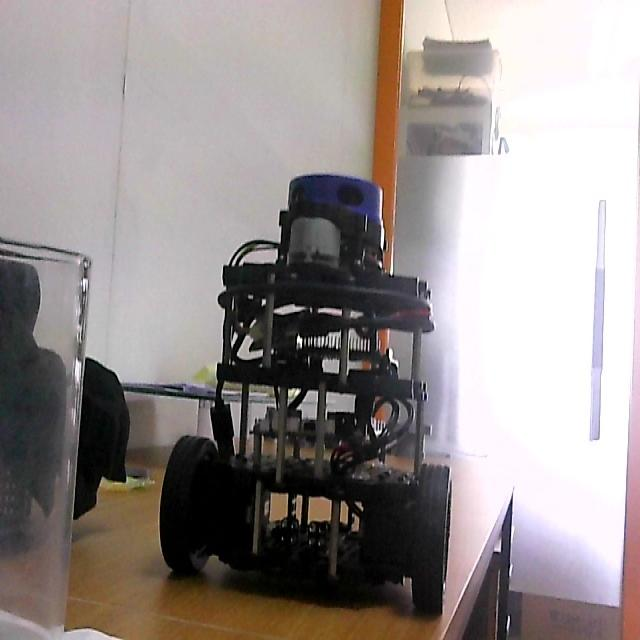turtle: (158, 171, 454, 619)
